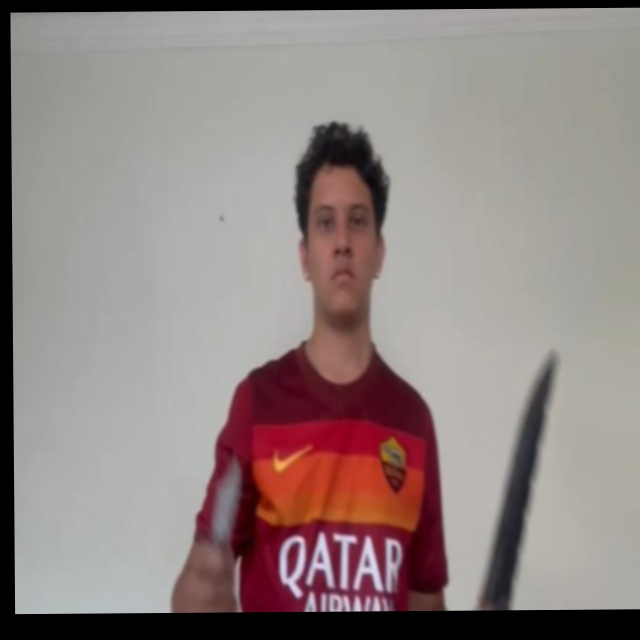Sharp-Object: (478, 355, 559, 610), (213, 464, 243, 542)
